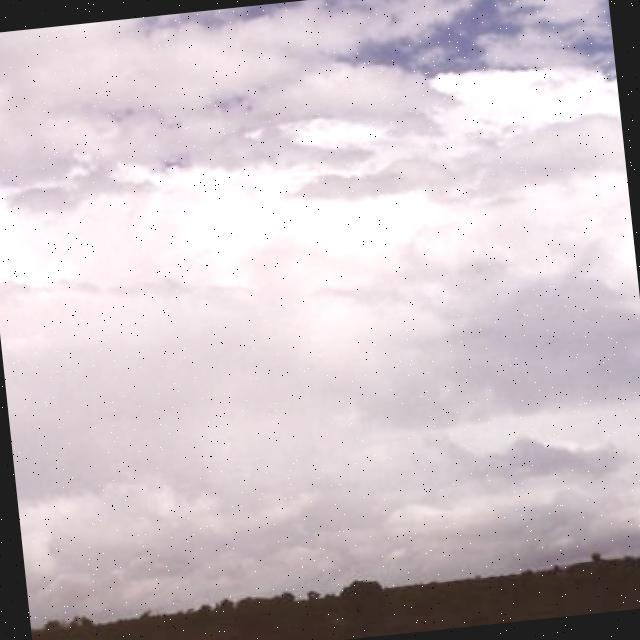St: (1, 1, 640, 524)
